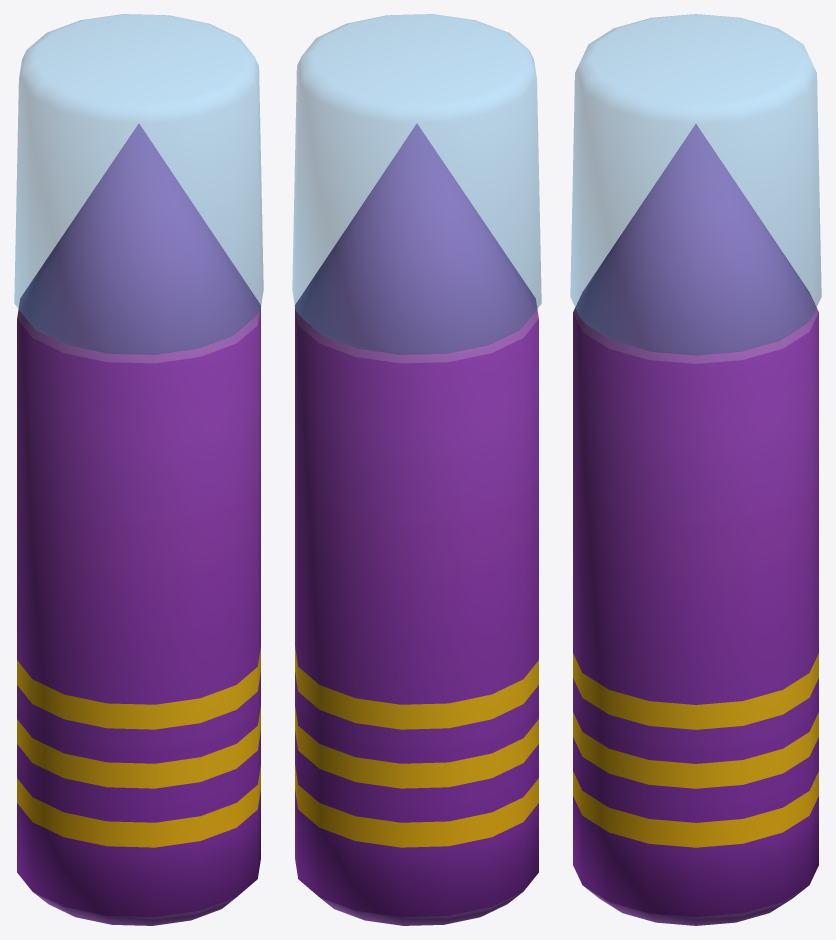
File: Cream_05.glb
3 renders of one model, left to right at view 1: azimuth 30°, elevation 25°; view 2: azimuth 150°, elevation 25°; view 3: azimuth 270°, elevation 25°, orthographic.
Visible parts, largest first — view 1: Cream_05; view 2: Cream_05; view 3: Cream_05.
Part boxes in pixels (left/top/right/bottom): Cream_05: left=14, top=14, right=263, bottom=925; Cream_05: left=292, top=14, right=541, bottom=925; Cream_05: left=570, top=14, right=821, bottom=925.
Bounding box in the file's own units: 0.0693 × 0.2502 × 0.0693.
2 materials, 2 textured.
